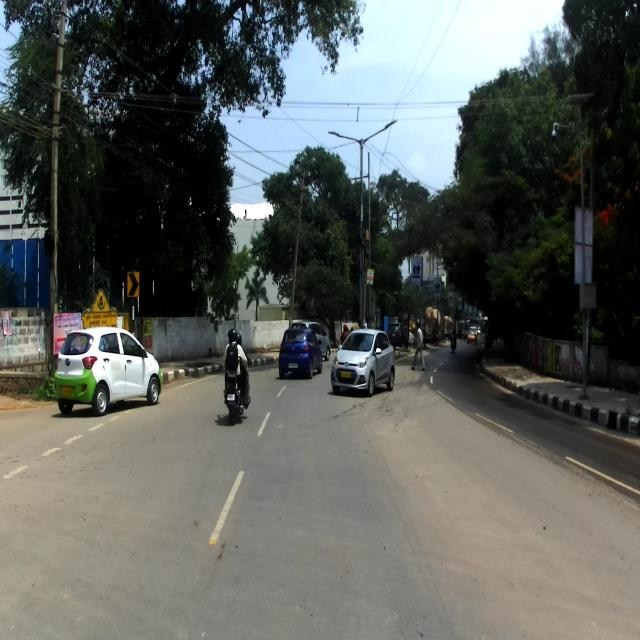Car_Hyundai: (54, 326, 162, 417), (330, 328, 395, 397)
motorcycle_bajaj: (223, 357, 252, 425)
